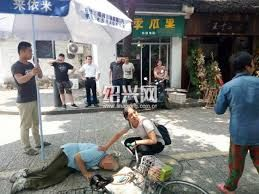fall: (5, 136, 125, 193)
